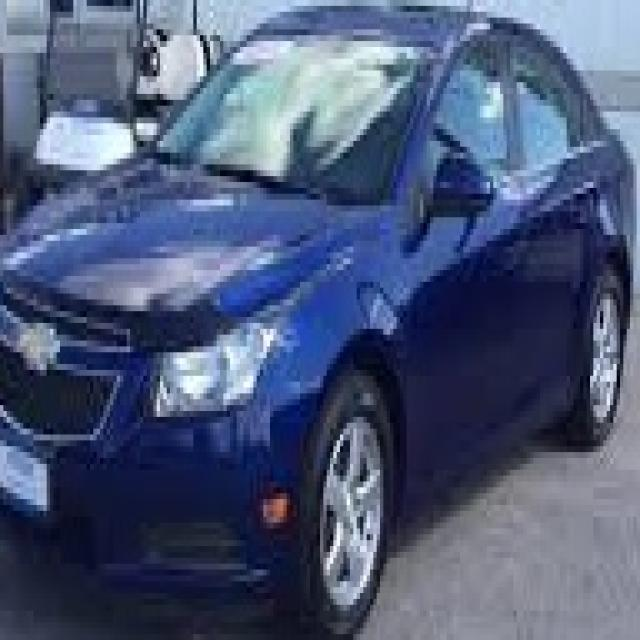blue: (0, 6, 630, 640)
